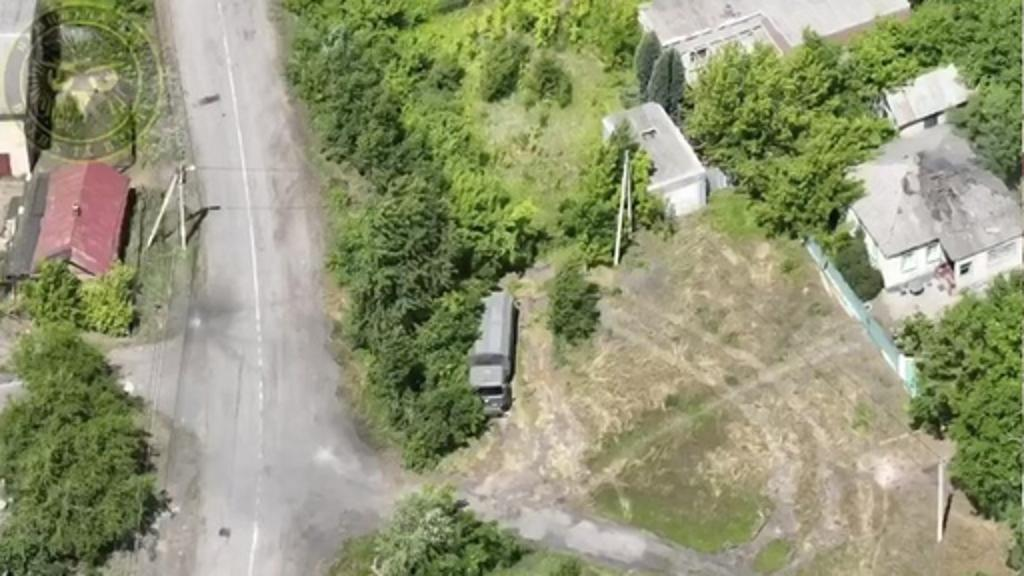TRUCK: (450, 278, 524, 422)
